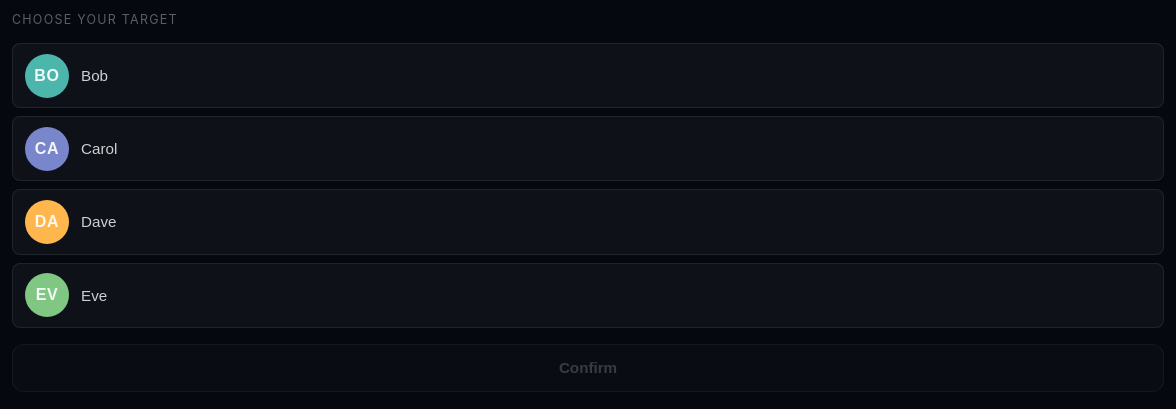
SerialKillerUI › applies wolf CSS class to selected target row
Click the text "Bob" at point(94, 76), box [81,67,108,84]
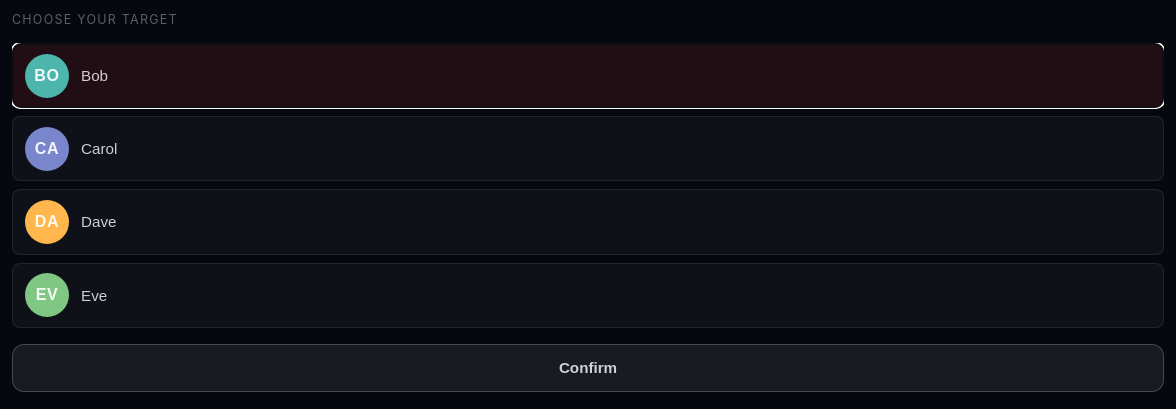
Check: the button with class "action-ui__row--wolf" shows "Bob", box [12,43,1164,108]
Check: the button with class "action-ui__row--wolf" is shown, box [12,43,1164,108]
